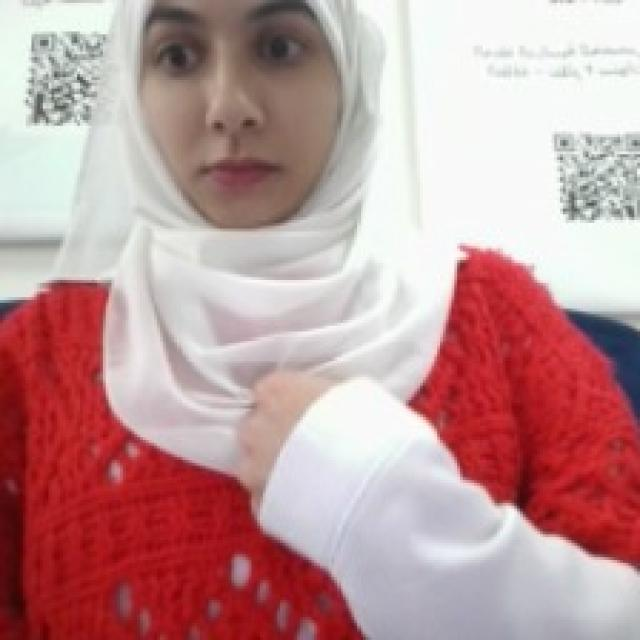me: (229, 360, 356, 526)
